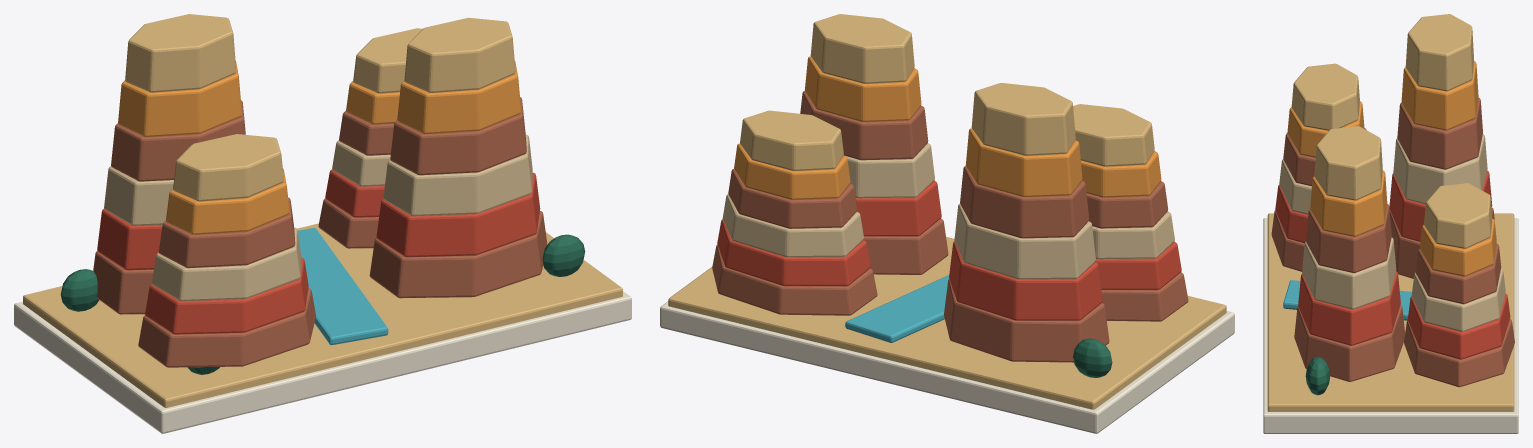
File: grand-canyon.glb
The picture shows the model from 3 angles, left to right: view 1: azimuth 30°, elevation 25°; view 2: azimuth 150°, elevation 25°; view 3: azimuth 270°, elevation 25°; orthographic projection. The views are drawn at different scales.
Visible parts, largest first — view 1: Grand Canyon; view 2: Grand Canyon; view 3: Grand Canyon.
Boxes of the visible parts, x1,y1,x2,y2 form: Grand Canyon: [14, 14, 631, 433]; Grand Canyon: [660, 14, 1234, 433]; Grand Canyon: [1263, 14, 1518, 433].
Bounding box in the file's own units: 1.47 × 0.89 × 0.8064.
